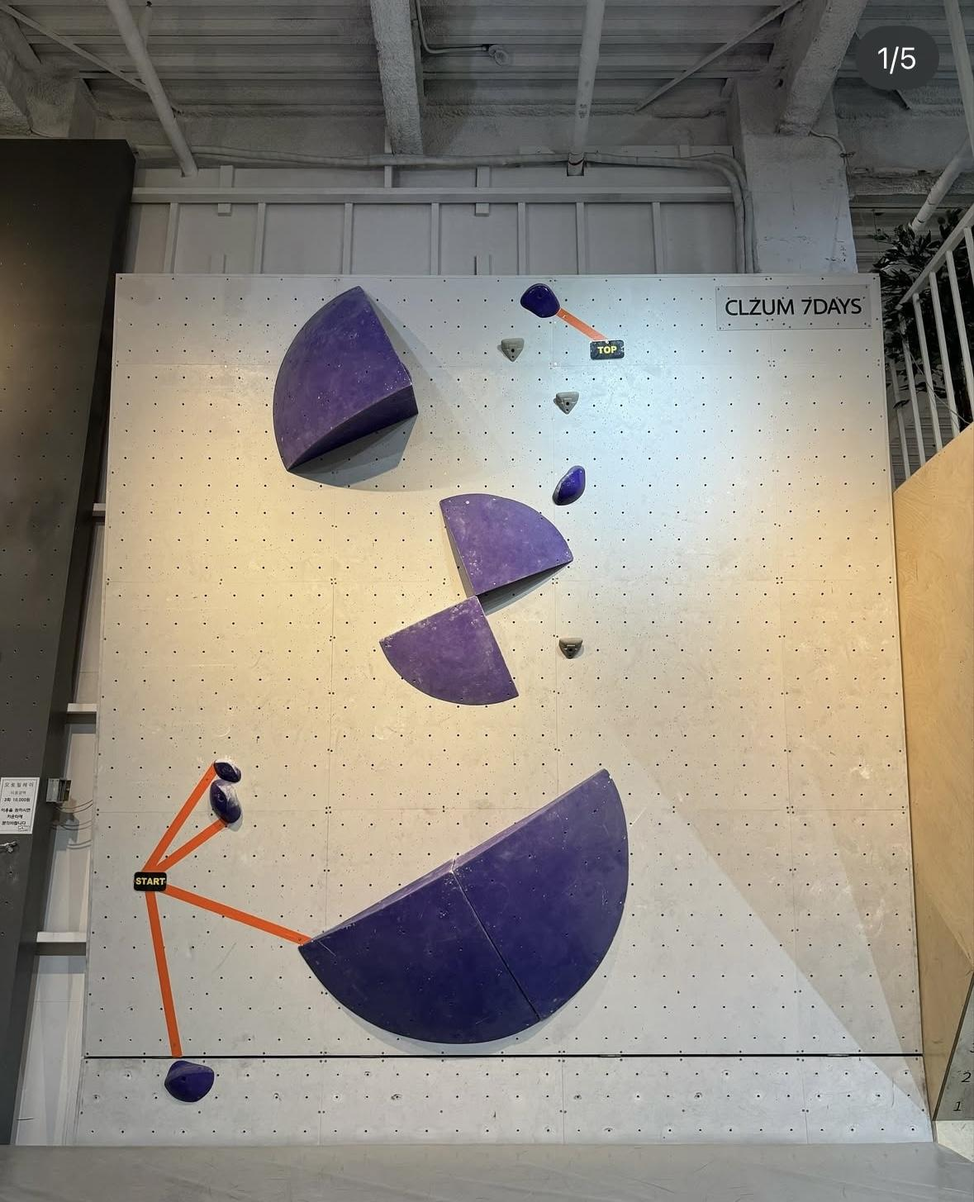hold: (299, 771, 629, 1045), (273, 287, 417, 471), (381, 599, 516, 705), (440, 494, 572, 600), (164, 1059, 214, 1103), (209, 780, 241, 830), (521, 283, 560, 317), (553, 467, 585, 505), (213, 762, 240, 783), (501, 338, 524, 362), (554, 391, 578, 413), (559, 639, 582, 658), (563, 495, 575, 504)
